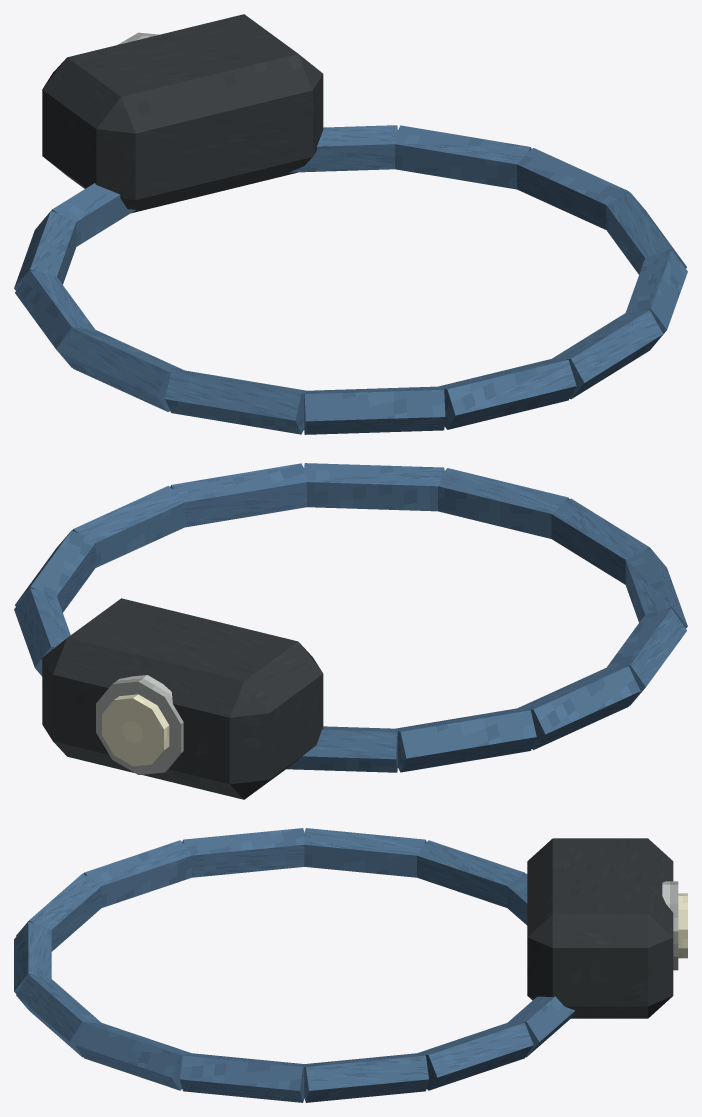
The model's file is wearable_light.glb.
The picture shows the model from 3 angles, top to bottom: view 1: azimuth 30°, elevation 25°; view 2: azimuth 150°, elevation 25°; view 3: azimuth 270°, elevation 25°; orthographic projection. The views are drawn at different scales.
Visible parts, largest first — view 1: block_lamp body, block_elastic head strap4, block_elastic head strap5, block_elastic head strap3, block_elastic head strap12, block_elastic head strap6, block_elastic head strap13, block_elastic head strap2, block_elastic head strap11, block_elastic head strap7, block_elastic head strap0, block_elastic head strap1 (+2 smaller); view 2: block_lamp body, block_elastic head strap8, block_elastic head strap2, block_elastic head strap1, block_elastic head strap3, block_elastic head strap7, block_elastic head strap0, block_elastic head strap4, block_elastic head strap9, block_LED lens, block_elastic head strap6, block_LED bezel (+3 smaller); view 3: block_lamp body, block_elastic head strap0, block_elastic head strap13, block_elastic head strap6, block_elastic head strap7, block_elastic head strap12, block_elastic head strap1, block_elastic head strap5, block_elastic head strap8, block_elastic head strap2, block_elastic head strap4, block_elastic head strap3 (+4 smaller).
Boxes of the visible parts, x1,y1,x2,y2 form: block_lamp body: (42,14,323,213); block_elastic head strap4: (304,386,445,434); block_elastic head strap5: (165,370,306,434); block_elastic head strap3: (438,359,576,429); block_elastic head strap12: (395,125,531,189); block_elastic head strap6: (61,328,184,411); block_elastic head strap13: (517,148,629,229); block_elastic head strap2: (552,310,662,399); block_elastic head strap11: (289,125,397,172); block_elastic head strap7: (15,270,94,367); block_elastic head strap0: (606,192,686,274); block_elastic head strap1: (625,250,687,347); block_lamp body: (42,598,323,799); block_elastic head strap8: (395,708,536,772); block_elastic head strap2: (304,463,444,511); block_elastic head strap1: (170,463,306,527); block_elastic head strap3: (438,468,569,538); block_elastic head strap7: (518,666,640,749); block_elastic head strap0: (72,485,184,567); block_elastic head strap4: (551,498,650,584); block_elastic head strap9: (286,726,397,772); block_LED lens: (102,694,169,766); block_elastic head strap6: (607,608,686,705); block_LED bezel: (96,675,183,774); block_lamp body: (527,838,673,1018); block_elastic head strap0: (180,1053,304,1102); block_elastic head strap13: (304,1053,428,1102); block_elastic head strap6: (182,828,304,877); block_elastic head strap7: (304,828,426,877); block_elastic head strap12: (417,1022,533,1090); block_elastic head strap1: (75,1022,191,1090); block_elastic head strap5: (83,840,191,907); block_elastic head strap8: (417,840,525,907); block_elastic head strap2: (16,975,100,1057); block_elastic head strap4: (16,873,101,951); block_elastic head strap3: (14,921,51,994).
Size of the model in its own units: 0.1198 by 0.0238 by 0.136.
1 material, 1 textured.
